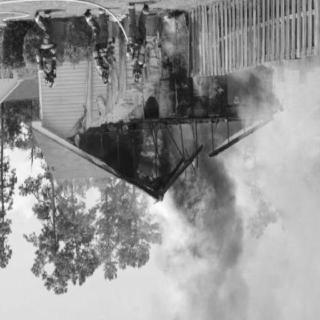Smoke: (160, 227, 248, 317)
